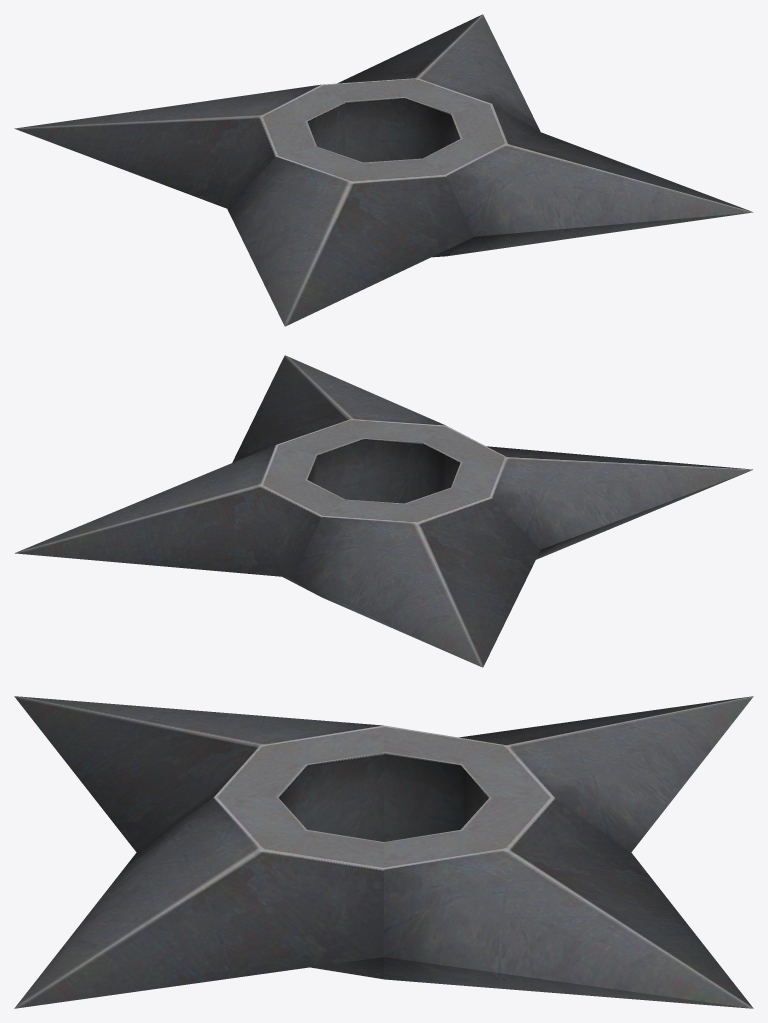
File: Shuriken01.FBX
The picture shows the model from 3 angles, top to bottom: view 1: azimuth 30°, elevation 25°; view 2: azimuth 150°, elevation 25°; view 3: azimuth 270°, elevation 25°; orthographic projection. The views are drawn at different scales.
Parts seen in each view (by area): view 1: Shuriken01; view 2: Shuriken01; view 3: Shuriken01.
Boxes of the visible parts, <box> form: Shuriken01: <box>14,14,753,326</box>; Shuriken01: <box>15,355,752,667</box>; Shuriken01: <box>14,696,753,1008</box>.
Bounding box in the file's own units: 70.04 × 11.51 × 70.04.
